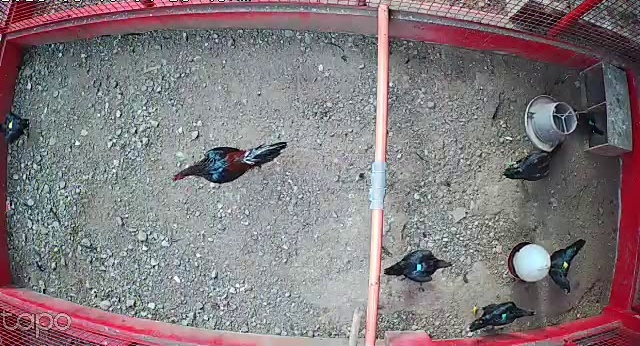Chicken: (540, 234, 591, 295), (382, 246, 455, 286), (502, 141, 566, 182), (467, 297, 539, 332), (0, 106, 34, 145), (570, 105, 604, 138)
Rooster: (169, 133, 293, 185)
Saddle_Color_Blue: (417, 264, 423, 270)
Saddle_Color_Yellow: (7, 120, 13, 129)
Saddle_Color_YellowGreen: (562, 262, 569, 272)
